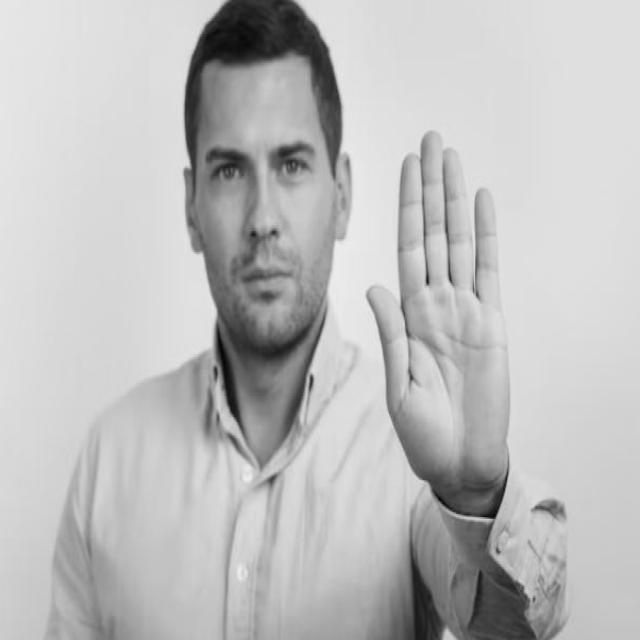stop: (360, 119, 517, 503)
